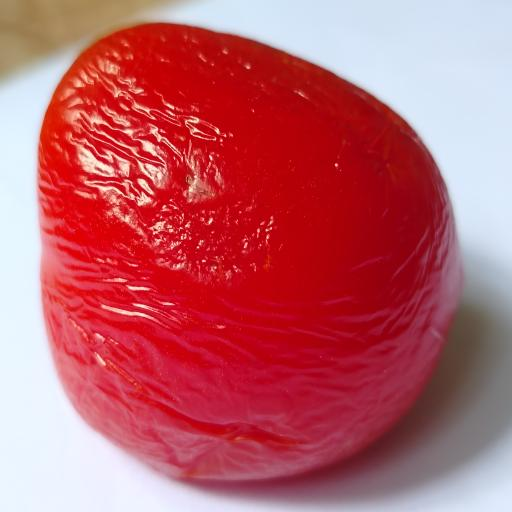spoiled: (37, 24, 462, 480)
